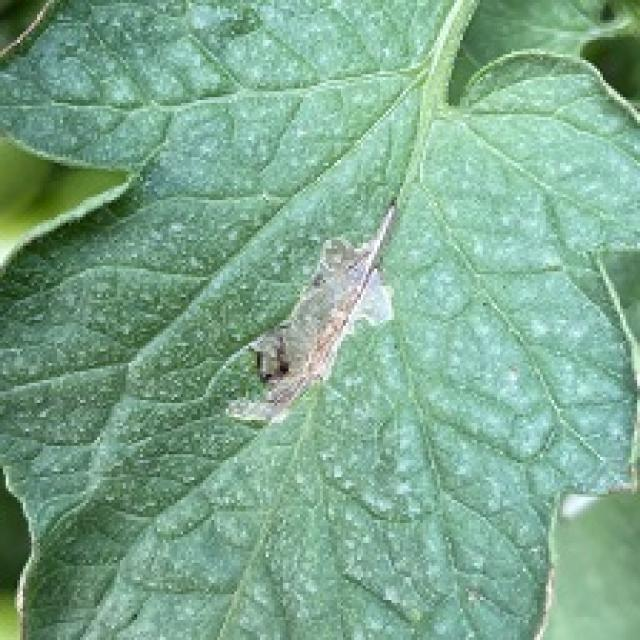Tuta absoluta: (210, 184, 443, 455)
